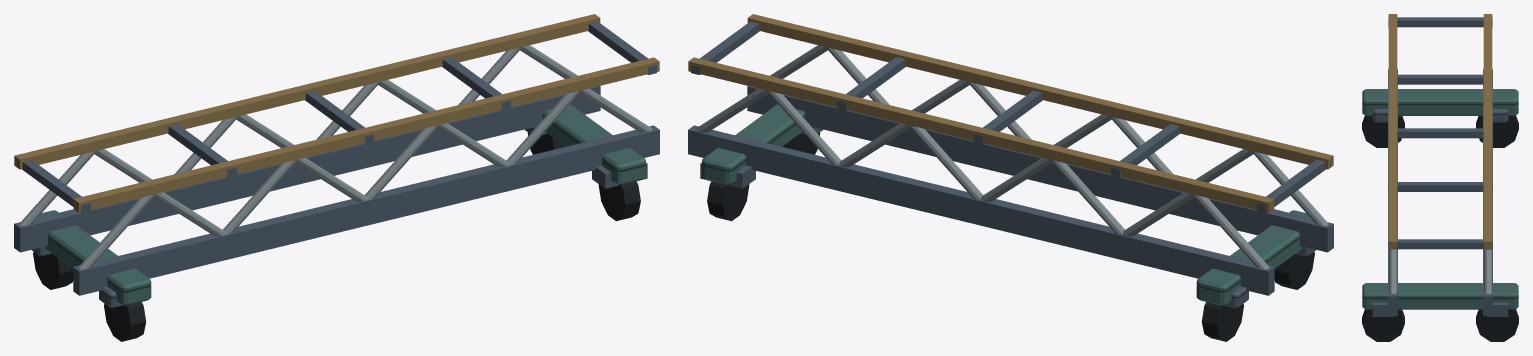
Rendered from HX-05_girder_carrier.glb.
3 renders of one model, left to right at view 1: azimuth 30°, elevation 25°; view 2: azimuth 150°, elevation 25°; view 3: azimuth 270°, elevation 25°, orthographic. The views are drawn at different scales.
Parts seen in each view (by area): view 1: HX-05_girder_carrier; view 2: HX-05_girder_carrier; view 3: HX-05_girder_carrier.
Boxes of the visible parts, x1=… form: HX-05_girder_carrier: x1=14, y1=14, x2=659, y2=341; HX-05_girder_carrier: x1=688, y1=14, x2=1333, y2=341; HX-05_girder_carrier: x1=1362, y1=14, x2=1518, y2=341.
Bounding box in the file's own units: 9.74 × 2.28 × 2.84.
